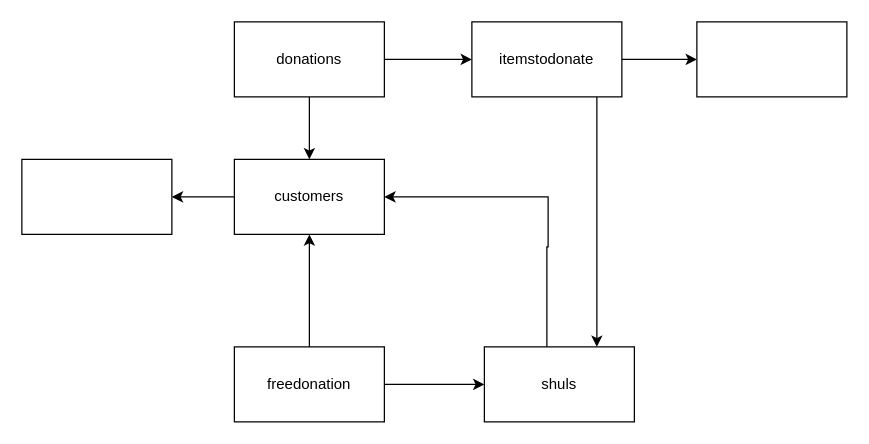
This 869x444 diagram has some shape labels left out. Each missing label, with the centre of its shape:
items: (x=771, y=59)
usertype: (x=96, y=196)
